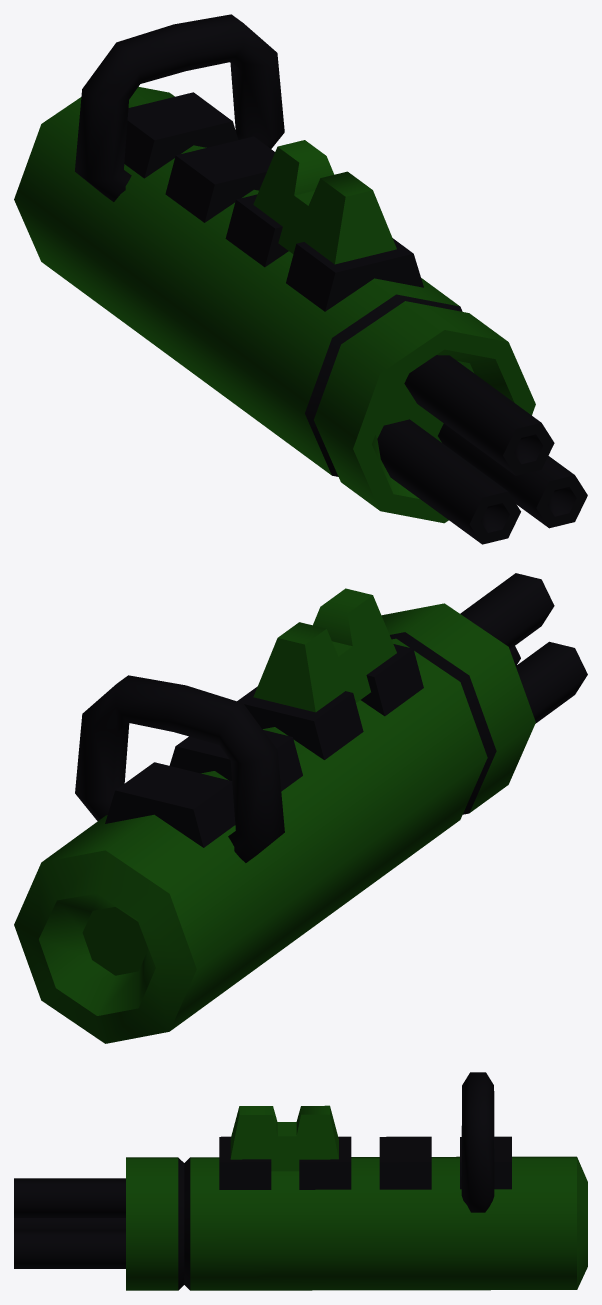
File: 01_player_G_2_W.FBX
3 renders of one model, top to bottom at view 1: azimuth 30°, elevation 25°; view 2: azimuth 150°, elevation 25°; view 3: azimuth 270°, elevation 25°, orthographic. The views are drawn at different scales.
Parts seen in each view (by area): view 1: 01_player_G_2; view 2: 01_player_G_2; view 3: 01_player_G_2.
Boxes of the visible parts, x1=… form: 01_player_G_2: x1=14, y1=14, x2=587, y2=544; 01_player_G_2: x1=14, y1=573, x2=587, y2=1043; 01_player_G_2: x1=14, y1=1072, x2=587, y2=1290.
Size of the model in its own units: 31.77 by 46.25 by 120.
